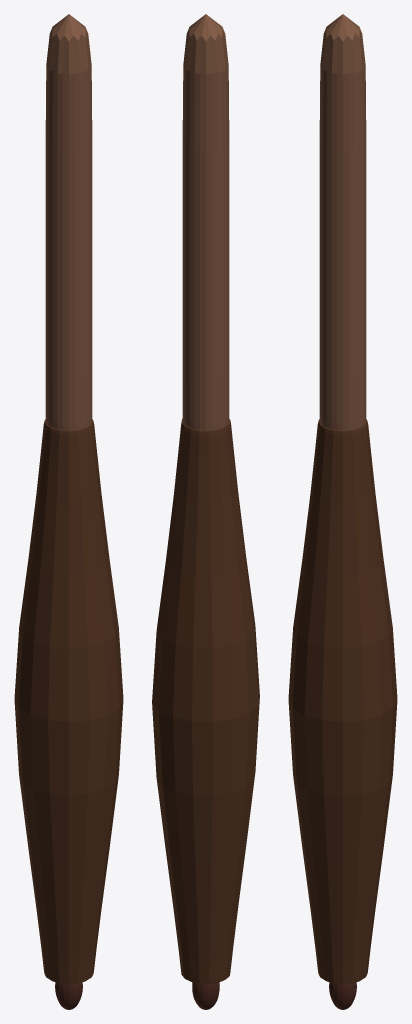
Rendered from Wand 116.glb.
The picture shows the model from 3 angles, left to right: view 1: azimuth 90°, elevation 25°; view 2: azimuth 210°, elevation 25°; view 3: azimuth 270°, elevation 25°; orthographic projection.
Visible parts, largest first — view 1: GeneratedWand; view 2: GeneratedWand; view 3: GeneratedWand.
Boxes of the visible parts, <box> form: GeneratedWand: <box>14,14,123,1009</box>; GeneratedWand: <box>152,14,259,1009</box>; GeneratedWand: <box>288,14,397,1009</box>.
Bounding box in the file's own units: 0.0499 × 0.5022 × 0.0499.
